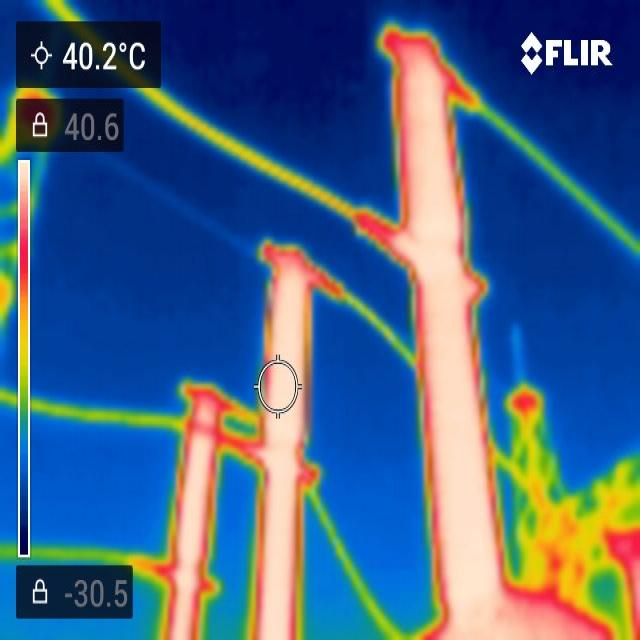Zona_Extrema: (410, 54, 599, 639), (261, 271, 304, 639), (171, 396, 214, 639)
